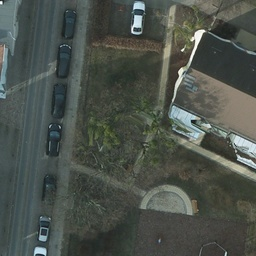car: (47, 121, 60, 157), (50, 84, 64, 117), (56, 43, 70, 76), (130, 1, 144, 34), (61, 9, 75, 40), (37, 215, 51, 244), (41, 175, 55, 203)
